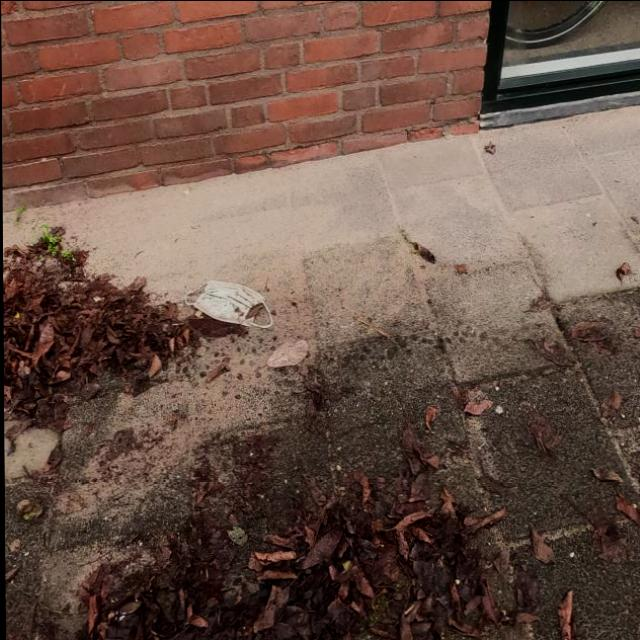Mask: (182, 270, 280, 338)
